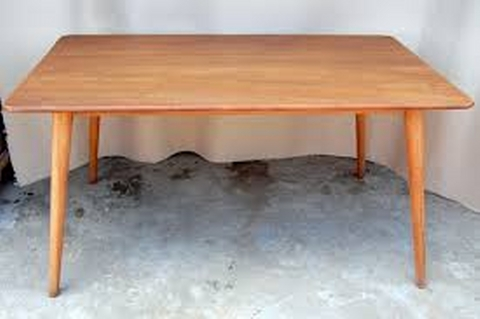meja: (4, 34, 475, 299)
